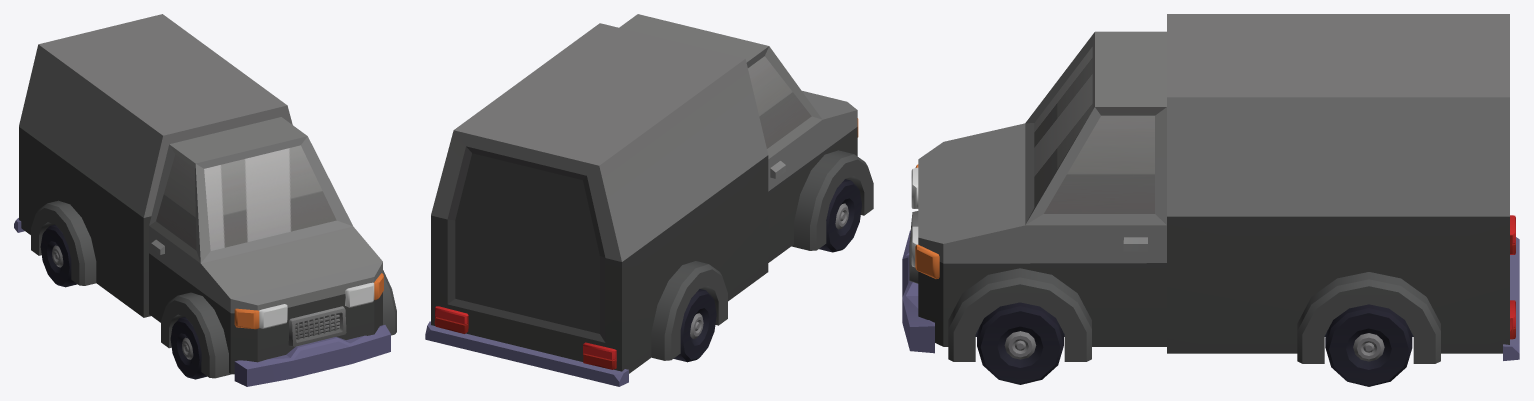
The model's file is Van_1.glb.
The picture shows the model from 3 angles, left to right: view 1: azimuth 30°, elevation 25°; view 2: azimuth 150°, elevation 25°; view 3: azimuth 270°, elevation 25°; orthographic projection. The views are drawn at different scales.
Visible parts, largest first — view 1: Van_1, wheel_FR, wheel_BR; view 2: Van_1, wheel_BR, wheel_FR; view 3: Van_1, wheel_BL, wheel_FL.
Boxes of the visible parts, x1,y1,x2,y2 form: Van_1: [14, 14, 396, 386]; wheel_FR: [170, 317, 207, 379]; wheel_BR: [40, 224, 77, 287]; Van_1: [425, 14, 873, 386]; wheel_BR: [673, 289, 716, 362]; wheel_FR: [819, 179, 861, 252]; Van_1: [902, 14, 1519, 363]; wheel_BL: [1325, 304, 1412, 386]; wheel_FL: [977, 302, 1063, 384].
Bounding box in the file's own units: 1.23 × 1.19 × 2.48.
5 materials, 5 textured.
